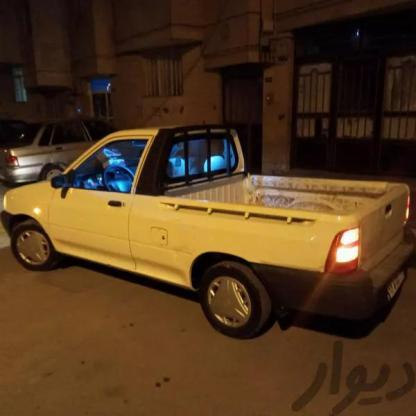Car: (0, 104, 395, 374), (0, 118, 114, 184)
